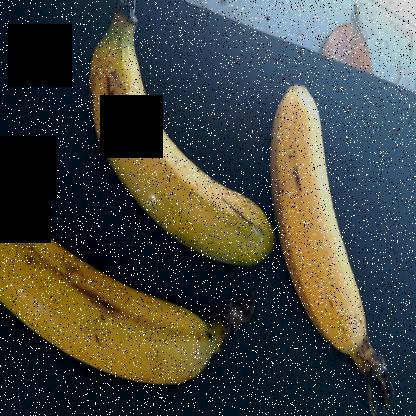freshripe: (253, 63, 372, 363)
ripe: (87, 18, 269, 297), (0, 211, 231, 383)
